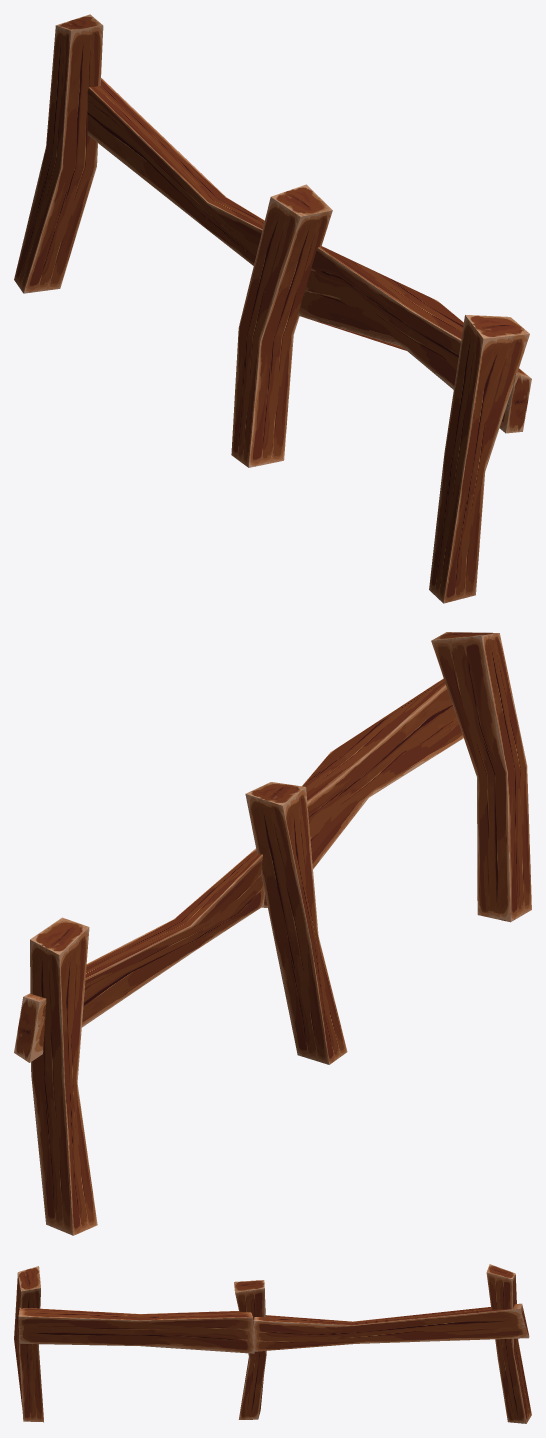
File: barriere-bois-1.glb
3 renders of one model, top to bottom at view 1: azimuth 30°, elevation 25°; view 2: azimuth 150°, elevation 25°; view 3: azimuth 270°, elevation 25°, orthographic. The views are drawn at different scales.
Parts seen in each view (by area): view 1: SM_PROP_railing_v01_01; view 2: SM_PROP_railing_v01_01; view 3: SM_PROP_railing_v01_01.
Part boxes in pixels (box(x1,y1,x2,y2)): SM_PROP_railing_v01_01: box(14, 14, 531, 603); SM_PROP_railing_v01_01: box(14, 632, 531, 1235); SM_PROP_railing_v01_01: box(14, 1264, 531, 1423).
Bounding box in the file's own units: 0.4115 × 1.03 × 3.1.
1 material, 1 textured.
